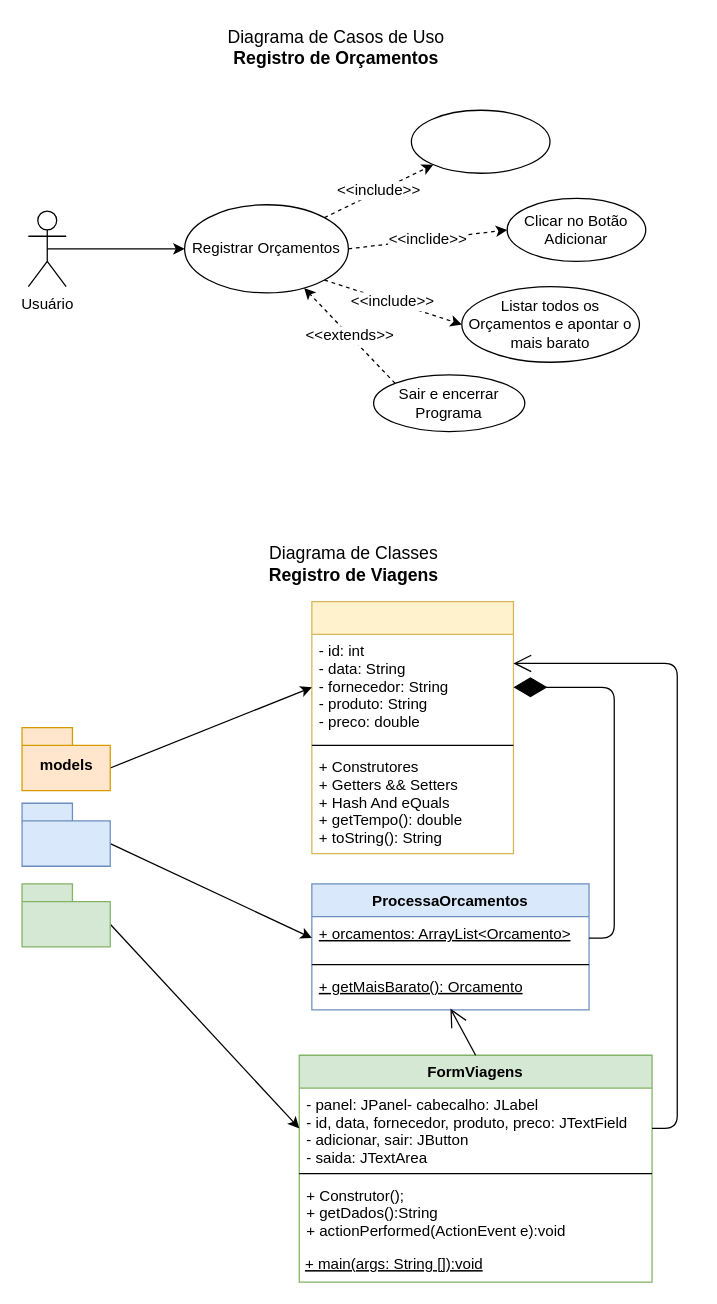
Some shapes in this 717 by 1304 pixel diagram are drawn without their labels. Each missing label, with the box of its shape:
controllers: (21, 802, 110, 866)
Orçamento: (311, 600, 513, 854)
Preencher corretamente os campos: (410, 109, 550, 173)
viewers: (21, 883, 110, 947)
